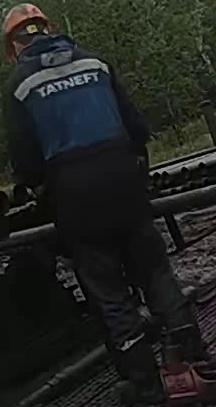helmet: (0, 2, 50, 35)
vest: (6, 57, 148, 241)
